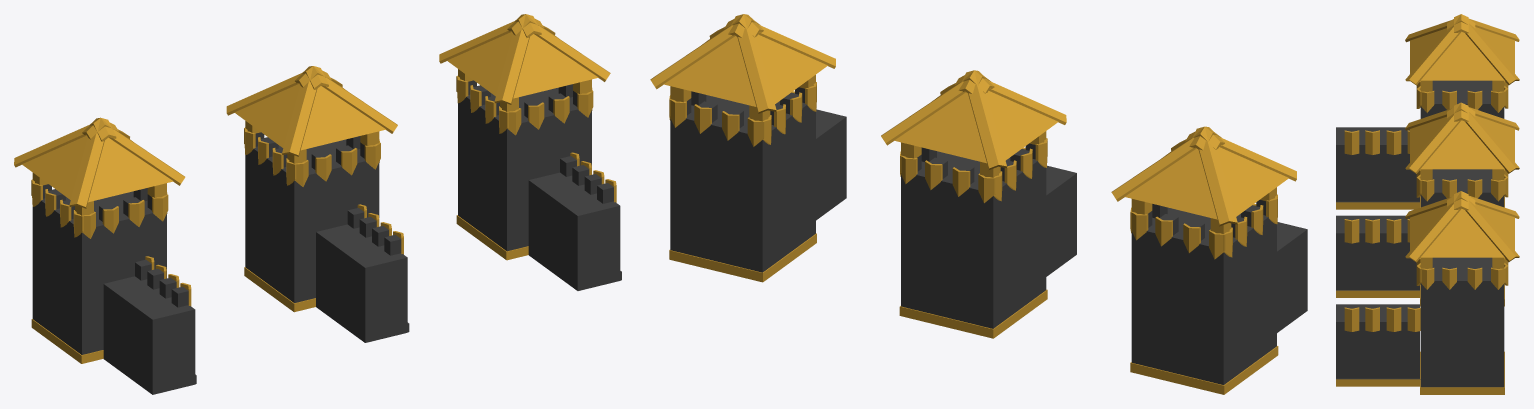
The model's file is Castle.fbx.
3 renders of one model, left to right at view 1: azimuth 30°, elevation 25°; view 2: azimuth 150°, elevation 25°; view 3: azimuth 270°, elevation 25°, orthographic. The views are drawn at different scales.
Parts seen in each view (by area): view 1: Cube.002, Cube.004, Cube.007, Cube, Cube.006, Cube.003; view 2: Cube.004, Cube.007, Cube.002, Cube.003, Cube, Cube.006; view 3: Cube.007, Cube.004, Cube.002, Cube.006, Cube, Cube.003.
Part boxes in pixels (x1,y1,x2,y2): Cube.002: (14, 117, 185, 363); Cube.004: (226, 66, 397, 312); Cube.007: (439, 14, 610, 260); Cube: (103, 256, 196, 394); Cube.006: (528, 152, 621, 290); Cube.003: (316, 204, 409, 342); Cube.004: (881, 70, 1066, 338); Cube.007: (650, 14, 835, 282); Cube.002: (1111, 126, 1296, 394); Cube.003: (1022, 147, 1076, 276); Cube: (1253, 204, 1307, 332); Cube.006: (792, 91, 846, 220); Cube.007: (1405, 191, 1519, 394); Cube.004: (1405, 102, 1519, 306); Cube.002: (1405, 14, 1519, 207); Cube.006: (1336, 304, 1420, 386); Cube: (1336, 127, 1419, 209); Cube.003: (1336, 215, 1419, 297).
Bounding box in the file's own units: 12.74 × 4.91 × 4.39.
